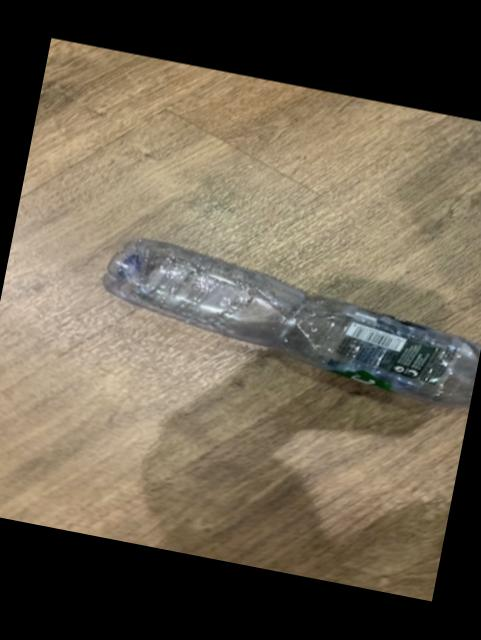plastic: (103, 242, 480, 408)
